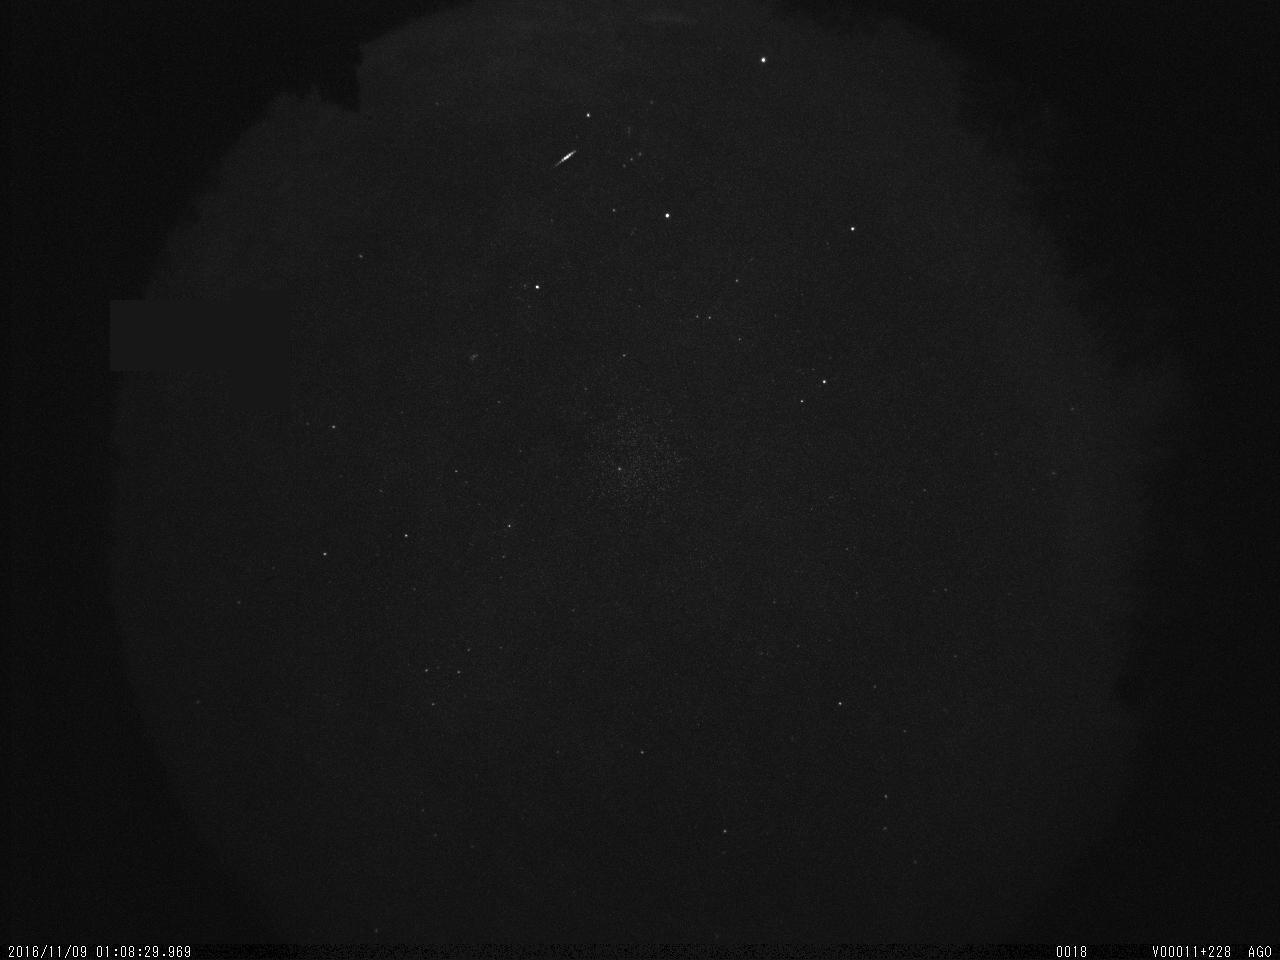meteor: (542, 142, 586, 176)
